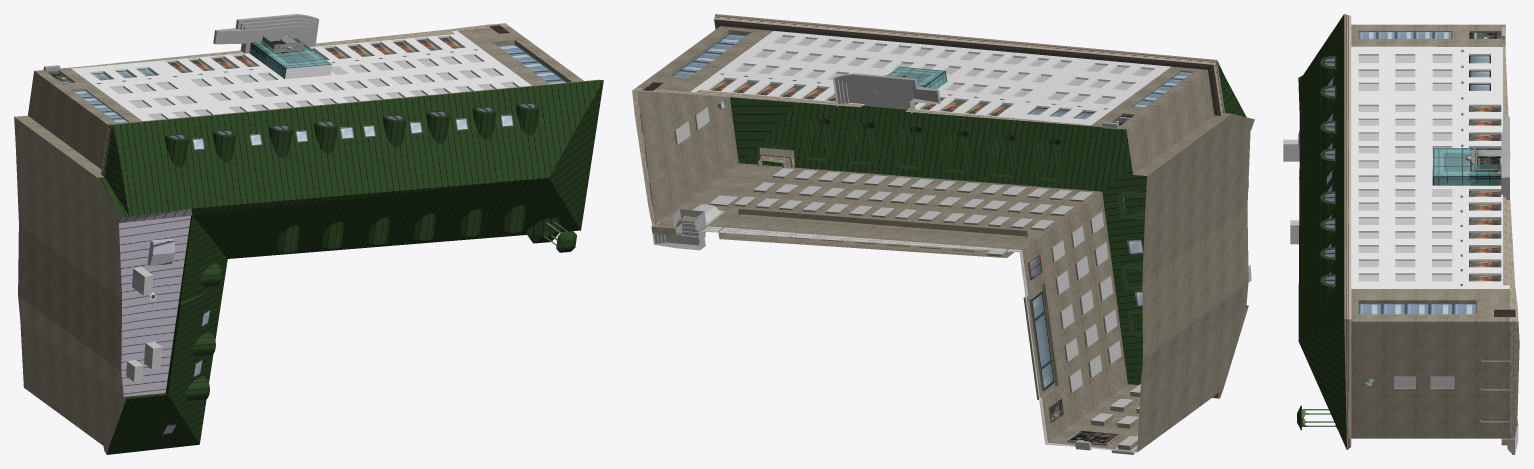
The model's file is Viru_11.obj.
The picture shows the model from 3 angles, left to right: view 1: azimuth 30°, elevation 25°; view 2: azimuth 150°, elevation 25°; view 3: azimuth 270°, elevation 25°; orthographic projection. The views are drawn at different scales.
Visible parts, largest first — view 1: Viru_11; view 2: Viru_11; view 3: Viru_11.
Boxes of the visible parts, x1=… form: Viru_11: x1=14, y1=14, x2=603, y2=454; Viru_11: x1=632, y1=14, x2=1254, y2=454; Viru_11: x1=1283, y1=14, x2=1519, y2=454.
Size of the model in its own units: 55 by 35.55 by 22.97.
